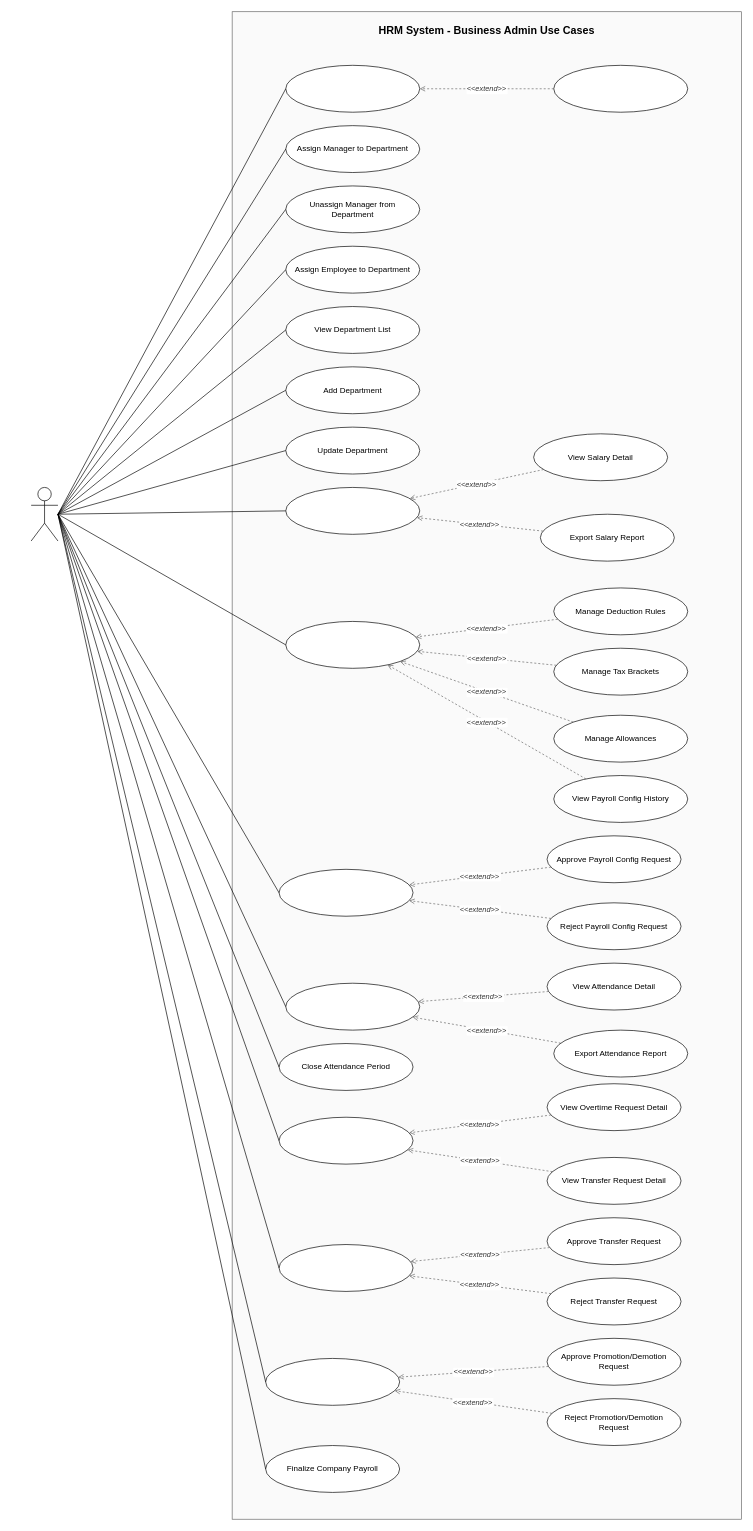
Some shapes in this 753 by 1531 pixel diagram are drawn without their labels. The centre of each missing label's shape, as x and y in pixels:
"BusinessAdmin" belongs at point (44, 514).
"Configure Payroll Policy" belongs at point (352, 644).
"Review Payroll Config Request" belongs at point (345, 892).
"Review Promotion/Demotion Request" belongs at point (332, 1381).
"Review Transfer Request" belongs at point (345, 1267).
"View All Company Form Requests" belongs at point (345, 1140).
"View Company Attendance Overview" belongs at point (352, 1006).
"View Company Employee List" belongs at point (352, 88).
"View Company Salary Overview" belongs at point (352, 510).
"View Employee Detail" belongs at point (620, 88).
